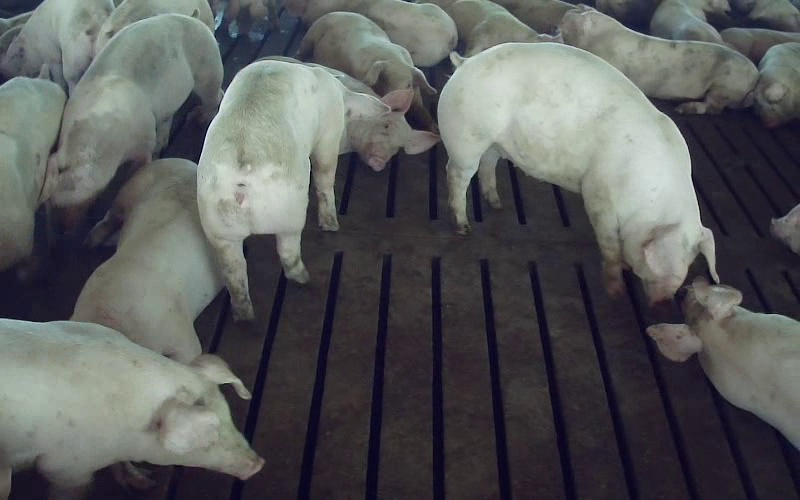pig: (438, 43, 717, 302), (198, 60, 388, 319), (42, 14, 222, 228), (72, 159, 222, 362), (647, 278, 799, 448), (560, 9, 758, 113), (297, 12, 436, 129), (0, 77, 65, 270), (285, 0, 457, 66), (754, 42, 799, 127), (649, 0, 729, 43)
